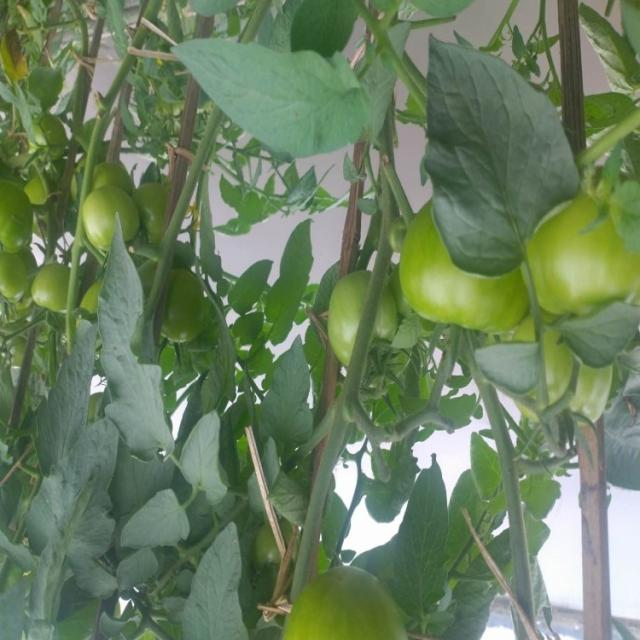tomato: (394, 201, 533, 336), (526, 186, 640, 335), (522, 338, 627, 433), (280, 568, 414, 640), (317, 261, 389, 374), (87, 181, 143, 255), (168, 260, 216, 346), (34, 265, 96, 319), (1, 172, 31, 252), (4, 244, 32, 304)
